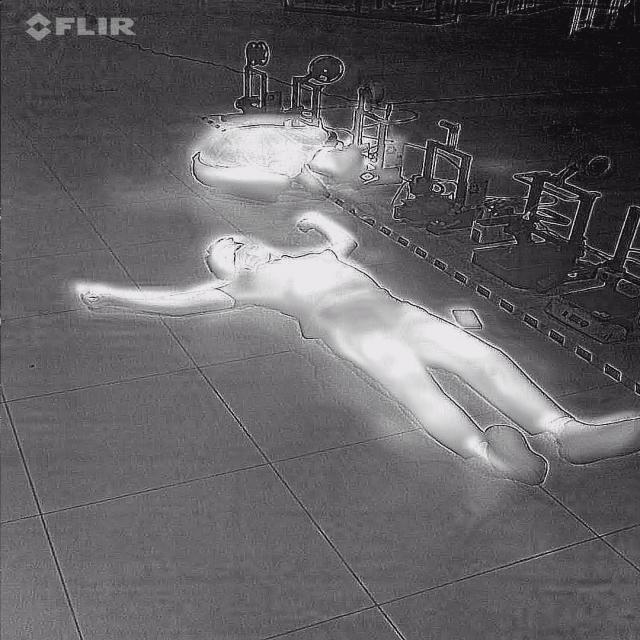Victim: (59, 211, 639, 494), (184, 108, 368, 208)
